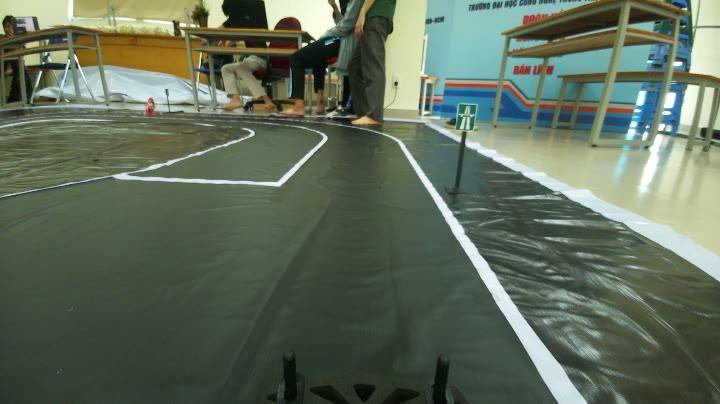highway_entry: (456, 95, 486, 140)
